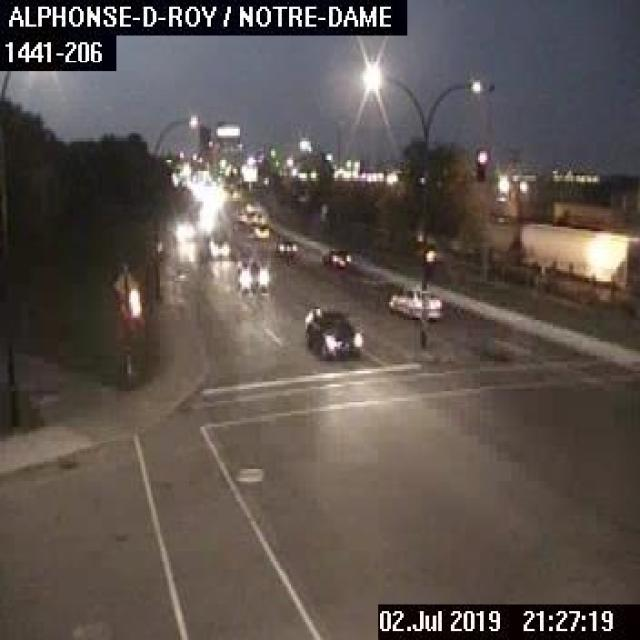vehicle: (305, 309, 360, 355), (387, 284, 443, 320), (235, 260, 267, 289), (244, 202, 269, 238), (325, 247, 351, 264), (207, 236, 229, 253), (276, 238, 296, 251)
